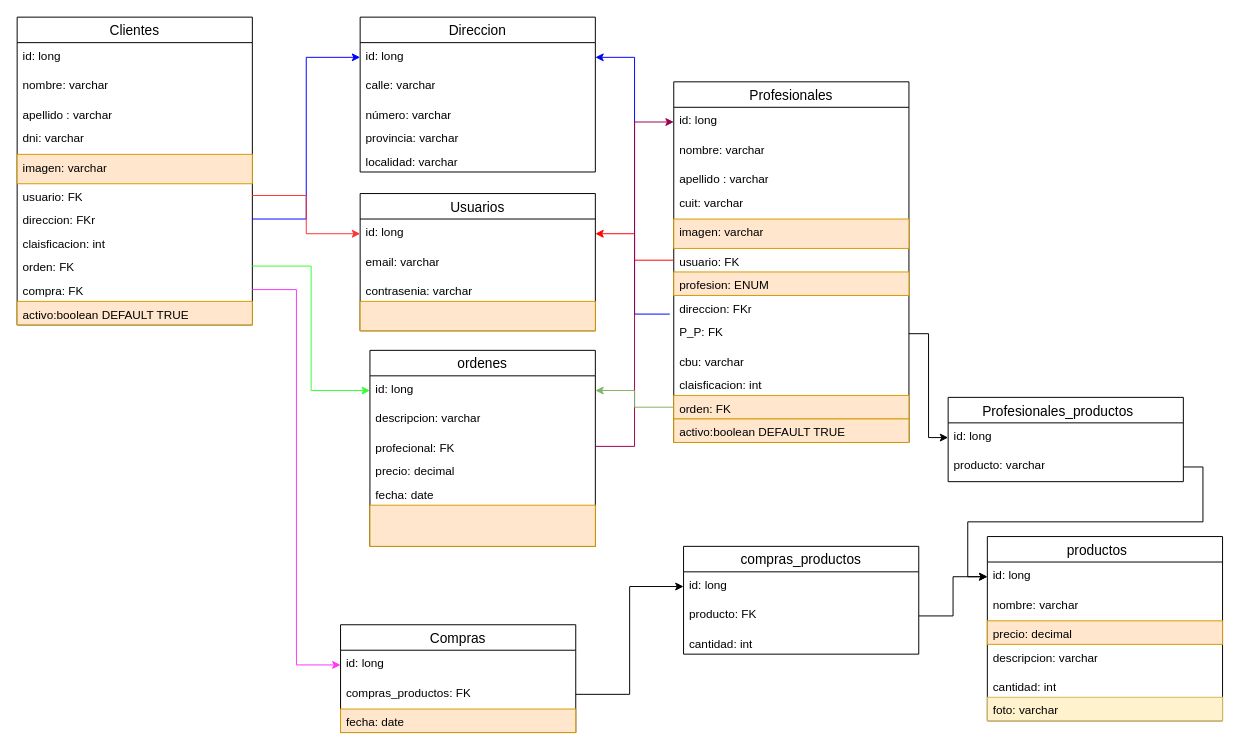
Image size: 1240x753. Some labels were removed from this diagram. The shapes that lost their labels are listed below. From the top down, each one's centre as x and y in pixels, then its label:
(477,315): avatar: varchar DEFAULT url
(482,525): estado: ENUM(inicial, pendiente, aprobada) DEFAULT inicial
